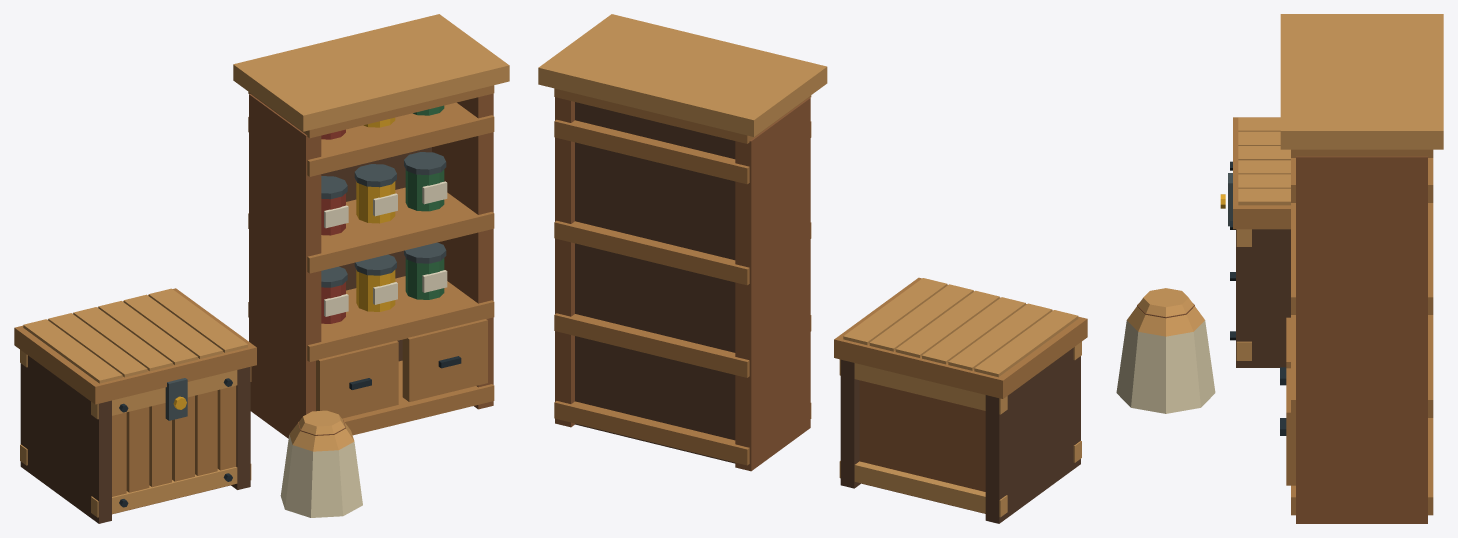
The model's file is storage_set.glb.
The picture shows the model from 3 angles, left to right: view 1: azimuth 30°, elevation 25°; view 2: azimuth 150°, elevation 25°; view 3: azimuth 270°, elevation 25°; orthographic projection. The views are drawn at different scales.
Parts seen in each view (by area): view 1: food_cupboard__wood2, food_cupboard__wood, food_cupboard__wood3, storage_chest__wood_dark, chest_lid__wood3, storage_chest__wood2, chest_lid__wood2, grain_sack__wool, storage_chest__wood3, food_cupboard__metal, food_cupboard__cream, food_cupboard__green (+5 smaller); view 2: food_cupboard__wood_dark, food_cupboard__wood, food_cupboard__wood3, food_cupboard__wood2, storage_chest__wood_dark, chest_lid__wood3, storage_chest__wood, chest_lid__wood2, storage_chest__wood3; view 3: food_cupboard__wood, food_cupboard__wood3, grain_sack__wool, storage_chest__wood_dark, food_cupboard__wood2, chest_lid__wood3, grain_sack__wood3, chest_lid__wood2, storage_chest__wood3.
Part boxes in pixels (x1=…): food_cupboard__wood2: x1=248, y1=85, x2=494, y2=435; food_cupboard__wood: x1=249, y1=93, x2=493, y2=438; food_cupboard__wood3: x1=233, y1=14, x2=509, y2=131; storage_chest__wood_dark: x1=20, y1=355, x2=250, y2=523; chest_lid__wood3: x1=23, y1=288, x2=247, y2=383; storage_chest__wood2: x1=112, y1=385, x2=236, y2=496; chest_lid__wood2: x1=14, y1=288, x2=256, y2=404; grain_sack__wool: x1=280, y1=435, x2=362, y2=517; storage_chest__wood3: x1=20, y1=350, x2=251, y2=517; food_cupboard__metal: x1=321, y1=152, x2=446, y2=287; food_cupboard__cream: x1=324, y1=181, x2=447, y2=316; food_cupboard__green: x1=405, y1=105, x2=444, y2=299; food_cupboard__wood_dark: x1=575, y1=102, x2=735, y2=463; food_cupboard__wood: x1=555, y1=97, x2=810, y2=471; food_cupboard__wood3: x1=538, y1=14, x2=827, y2=136; food_cupboard__wood2: x1=554, y1=88, x2=811, y2=465; storage_chest__wood_dark: x1=840, y1=348, x2=1080, y2=523; chest_lid__wood3: x1=843, y1=278, x2=1078, y2=377; storage_chest__wood: x1=859, y1=380, x2=985, y2=513; chest_lid__wood2: x1=834, y1=277, x2=1087, y2=398; storage_chest__wood3: x1=839, y1=341, x2=1081, y2=517; food_cupboard__wood: x1=1296, y1=156, x2=1427, y2=523; food_cupboard__wood3: x1=1280, y1=14, x2=1443, y2=149; grain_sack__wool: x1=1116, y1=320, x2=1215, y2=413; storage_chest__wood_dark: x1=1236, y1=229, x2=1290, y2=367; food_cupboard__wood2: x1=1286, y1=149, x2=1433, y2=515; chest_lid__wood3: x1=1238, y1=117, x2=1290, y2=205; grain_sack__wood3: x1=1127, y1=288, x2=1204, y2=336; chest_lid__wood2: x1=1233, y1=117, x2=1290, y2=229; storage_chest__wood3: x1=1236, y1=229, x2=1251, y2=360.
Size of the model in its own units: 2.82 by 2.13 by 1.58.
